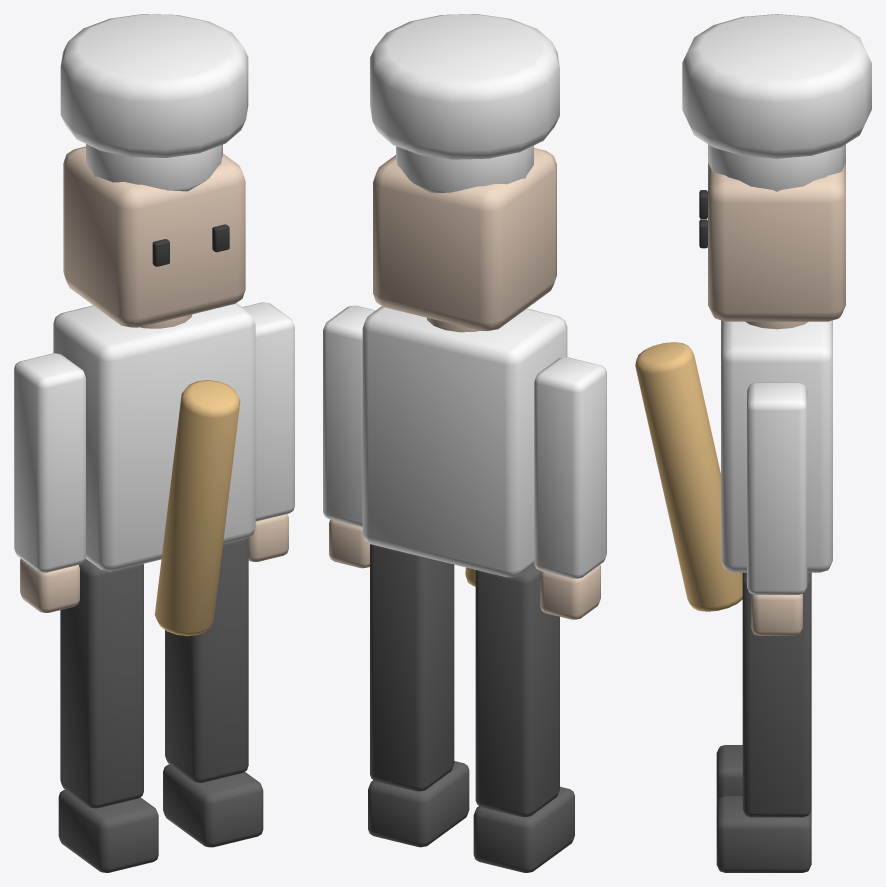
File: npc_chef.glb
3 renders of one model, left to right at view 1: azimuth 30°, elevation 25°; view 2: azimuth 150°, elevation 25°; view 3: azimuth 270°, elevation 25°, orthographic.
Visible parts, largest first — view 1: Gusteau_Torso, Gusteau_Head, Gusteau_ChefHat_Top, Gusteau_Leg_L, Gusteau_Arm_L, Gusteau_Baguette, Gusteau_Leg_R, Gusteau_Arm_R, Gusteau_Shoe_R, Gusteau_Shoe_L, Gusteau_ChefHat_Base, Gusteau_Hand_L (+1 smaller); view 2: Gusteau_Torso, Gusteau_Head, Gusteau_ChefHat_Top, Gusteau_Leg_R, Gusteau_Leg_L, Gusteau_Arm_L, Gusteau_Arm_R, Gusteau_Shoe_R, Gusteau_Shoe_L, Gusteau_ChefHat_Base, Gusteau_Hand_L, Gusteau_Hand_R; view 3: Gusteau_ChefHat_Top, Gusteau_Head, Gusteau_Torso, Gusteau_Baguette, Gusteau_Leg_R, Gusteau_Arm_R, Gusteau_Shoe_R, Gusteau_ChefHat_Base, Gusteau_Hand_R, Gusteau_Shoe_L.
Boxes of the visible parts, x1,y1,x2,y2 form: Gusteau_Torso: (53, 303, 255, 571); Gusteau_Head: (63, 146, 245, 327); Gusteau_ChefHat_Top: (60, 14, 248, 157); Gusteau_Leg_L: (60, 558, 143, 808); Gusteau_Arm_L: (14, 353, 85, 572); Gusteau_Baguette: (154, 380, 240, 636); Gusteau_Leg_R: (165, 538, 248, 782); Gusteau_Arm_R: (243, 302, 294, 521); Gusteau_Shoe_R: (163, 764, 263, 847); Gusteau_Shoe_L: (58, 790, 158, 872); Gusteau_ChefHat_Base: (86, 144, 222, 191); Gusteau_Hand_L: (20, 559, 79, 612); Gusteau_Torso: (362, 306, 567, 577); Gusteau_Head: (373, 148, 556, 331); Gusteau_ChefHat_Top: (370, 14, 559, 159); Gusteau_Leg_R: (370, 544, 454, 791); Gusteau_Leg_L: (475, 565, 559, 817); Gusteau_Arm_L: (534, 357, 606, 578); Gusteau_Arm_R: (323, 305, 375, 527); Gusteau_Shoe_R: (368, 761, 469, 847); Gusteau_Shoe_L: (473, 786, 574, 872); Gusteau_ChefHat_Base: (396, 145, 533, 193); Gusteau_Hand_L: (540, 565, 600, 619); Gusteau_Hand_R: (329, 519, 370, 568); Gusteau_ChefHat_Top: (682, 14, 871, 158); Gusteau_Head: (708, 163, 845, 321); Gusteau_Torso: (721, 320, 832, 572); Gusteau_Baguette: (635, 342, 742, 611); Gusteau_Leg_R: (742, 572, 811, 817); Gusteau_Arm_R: (747, 382, 807, 594); Gusteau_Shoe_R: (716, 796, 811, 872); Gusteau_ChefHat_Base: (708, 144, 845, 191); Gusteau_Hand_R: (751, 594, 802, 635); Gusteau_Shoe_L: (716, 745, 742, 803).
Size of the model in its own units: 0.69 by 2.02 by 0.5492.
